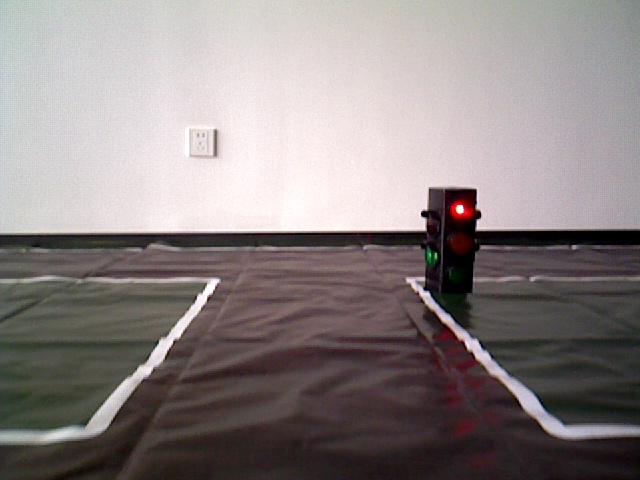red: (427, 189, 472, 295)
